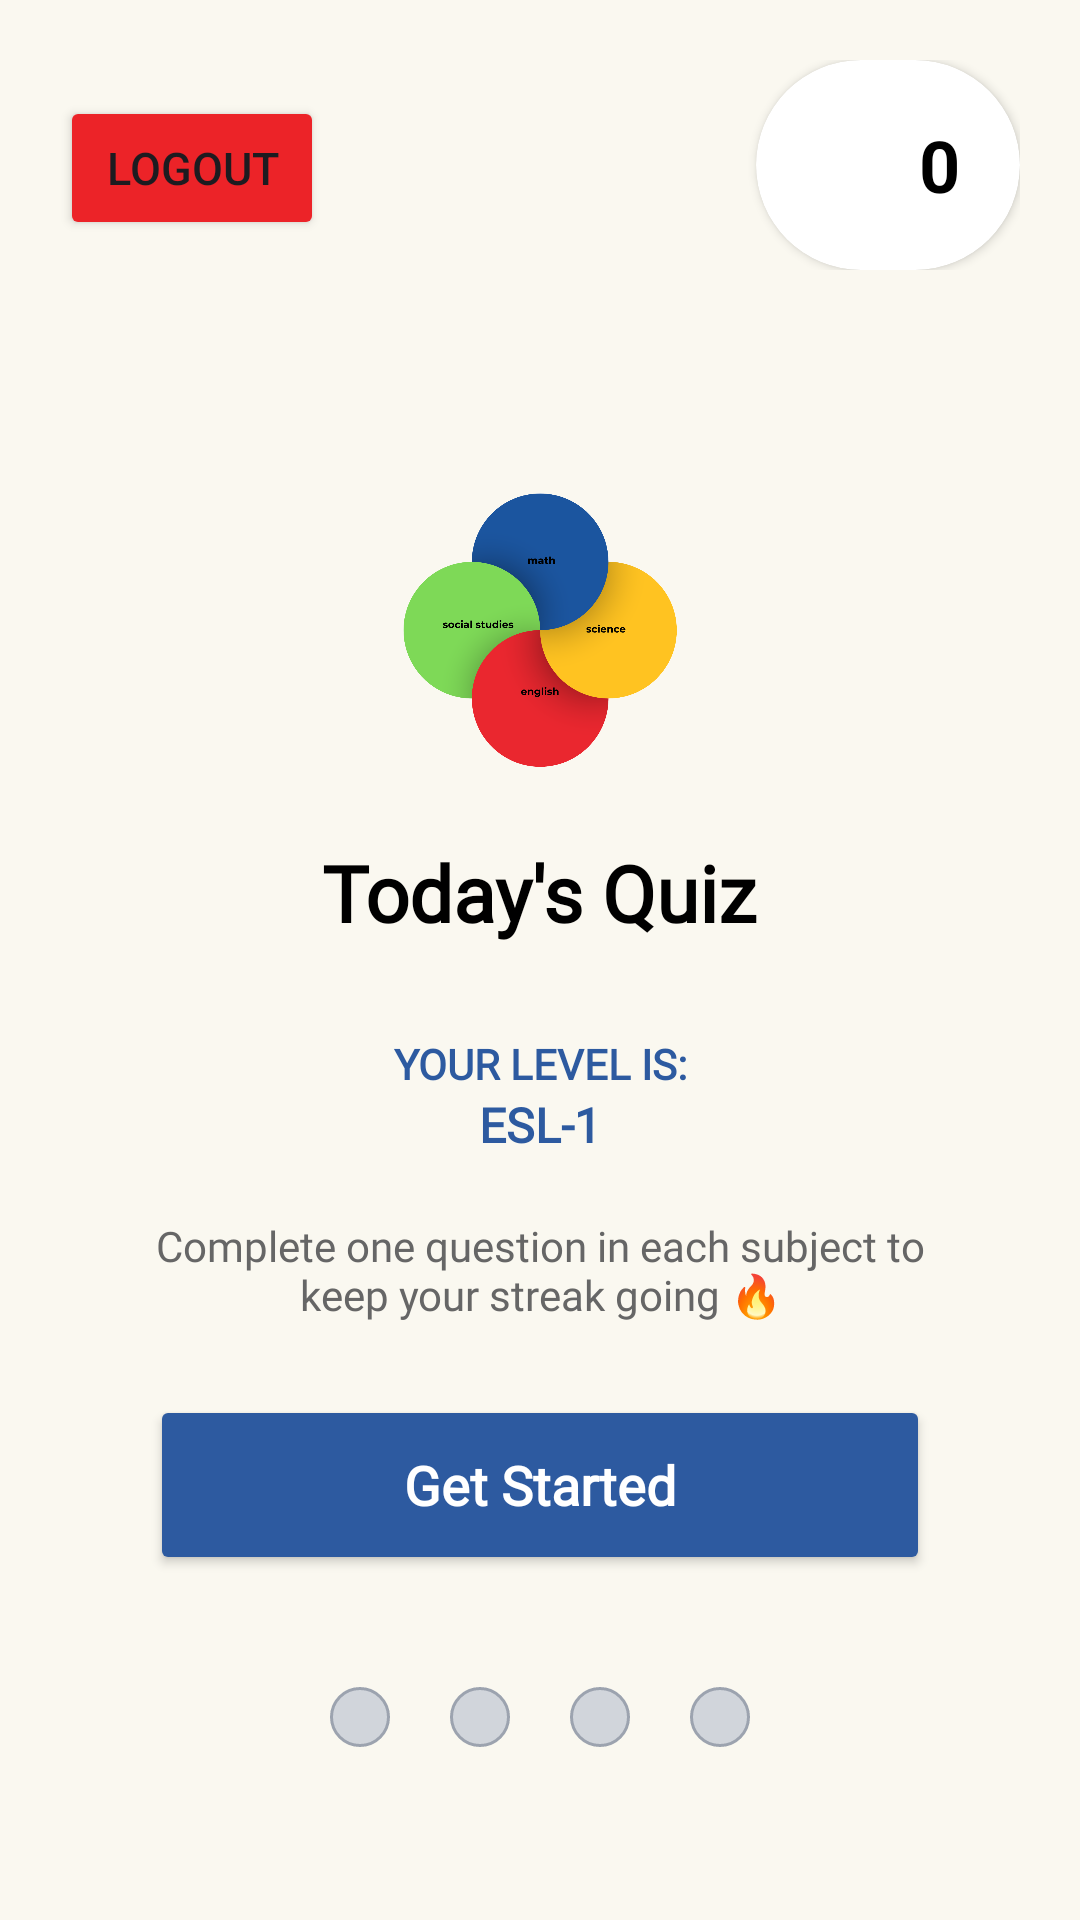

Where to tap for icons on this 1080px x 1920px app screen, as [x,y]:
venn: [540,630]
